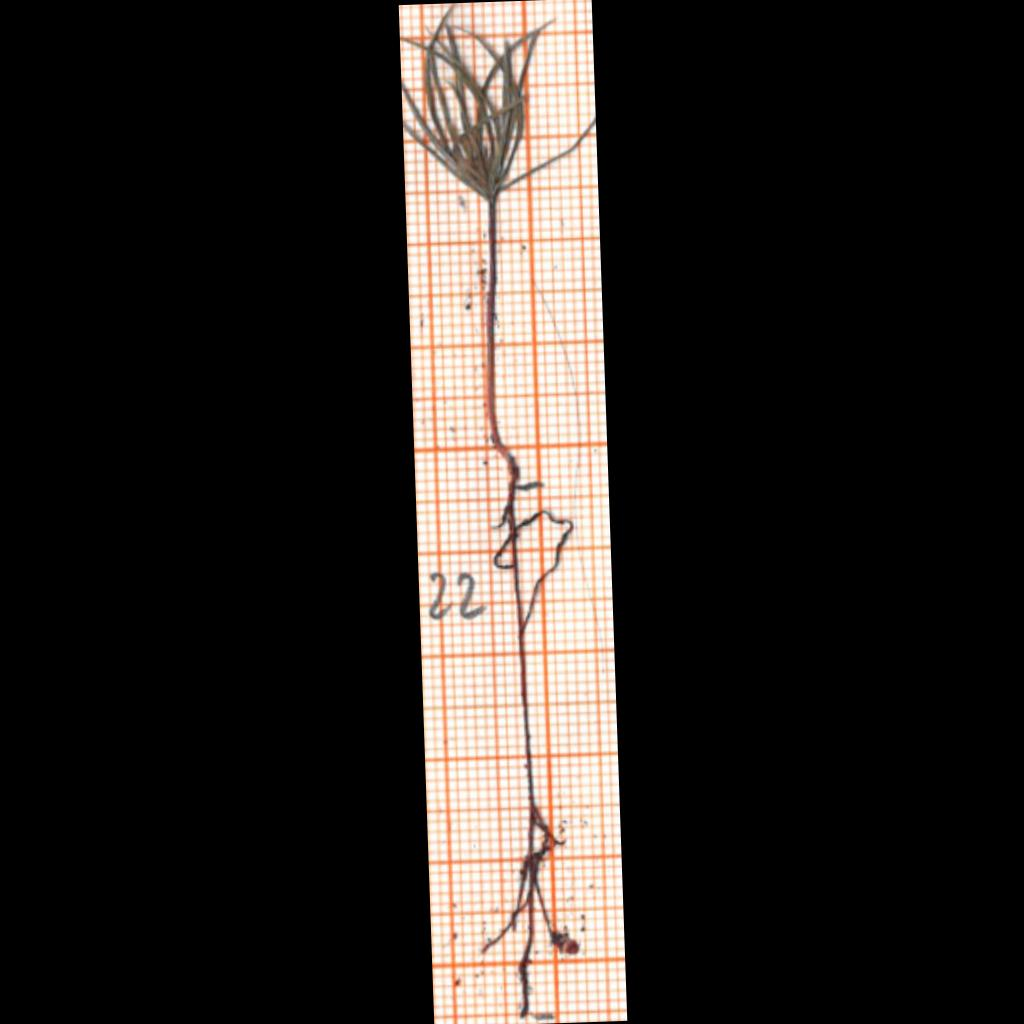flowerPinus: (401, 11, 595, 200)
rootPinus: (485, 481, 579, 1016)
stemPinus: (486, 203, 518, 478)
